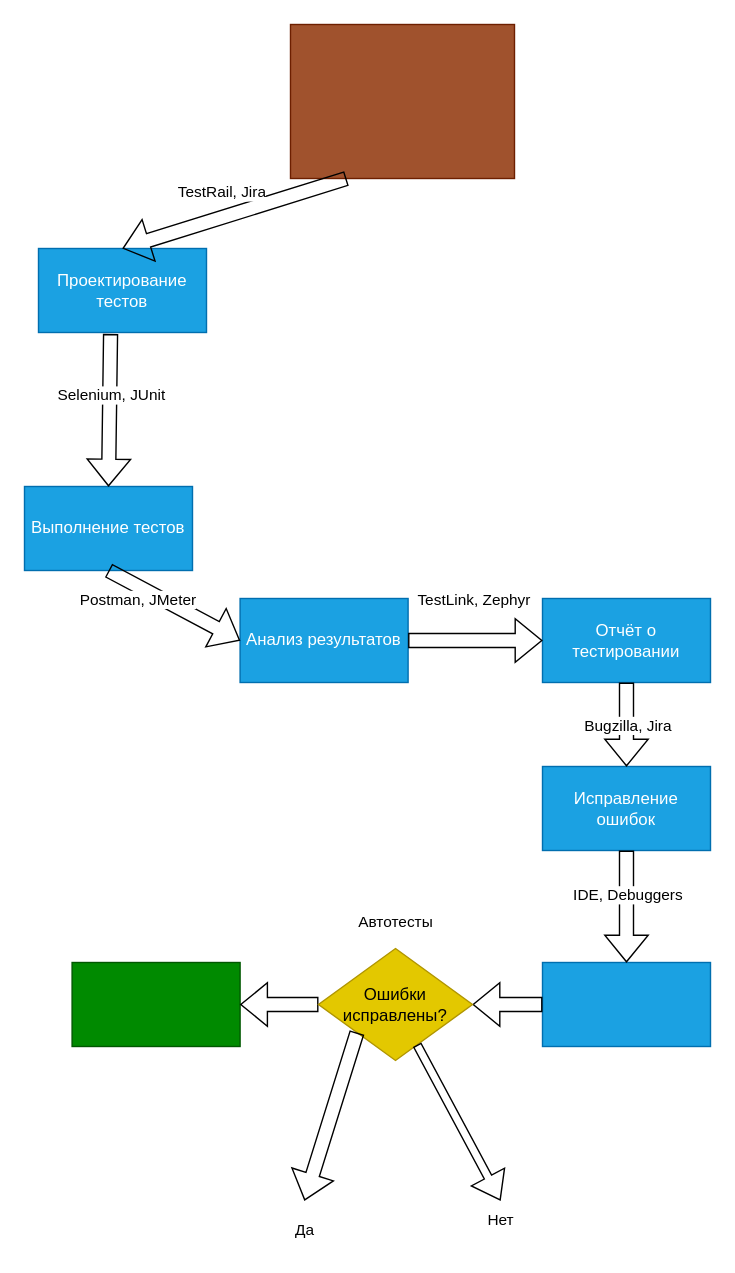
This 735x1273 diagram has some shape labels left out. Here are the shapes that lost their labels. From the top down, the box of each, then its label:
(289, 23, 514, 178): Планирование тестирования
(71, 961, 240, 1046): Отчёт о качестве продукта
(541, 961, 710, 1046): Повторное тестирование
